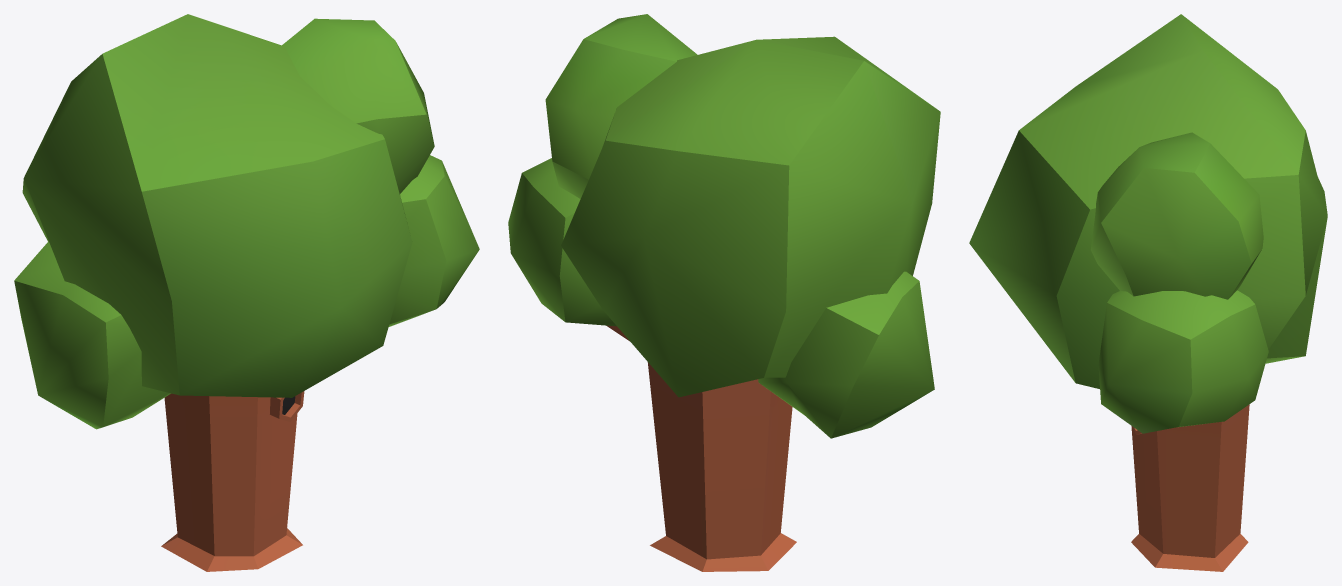
The model's file is a1wdtgJp6Or.glb.
3 views of the same model, side by side, from view 1: azimuth 30°, elevation 25°; view 2: azimuth 150°, elevation 25°; view 3: azimuth 270°, elevation 25° (orthographic). The views are drawn at different scales.
Visible parts, largest first — view 1: Tree_III; view 2: Tree_III; view 3: Tree_III.
Boxes of the visible parts, box(x1,y1,x2,y2) form: Tree_III: box(14, 14, 479, 571); Tree_III: box(508, 14, 940, 571); Tree_III: box(969, 14, 1327, 571).
Size of the model in its own units: 0.8365 by 1 by 0.6798.
1 material, 1 textured.
